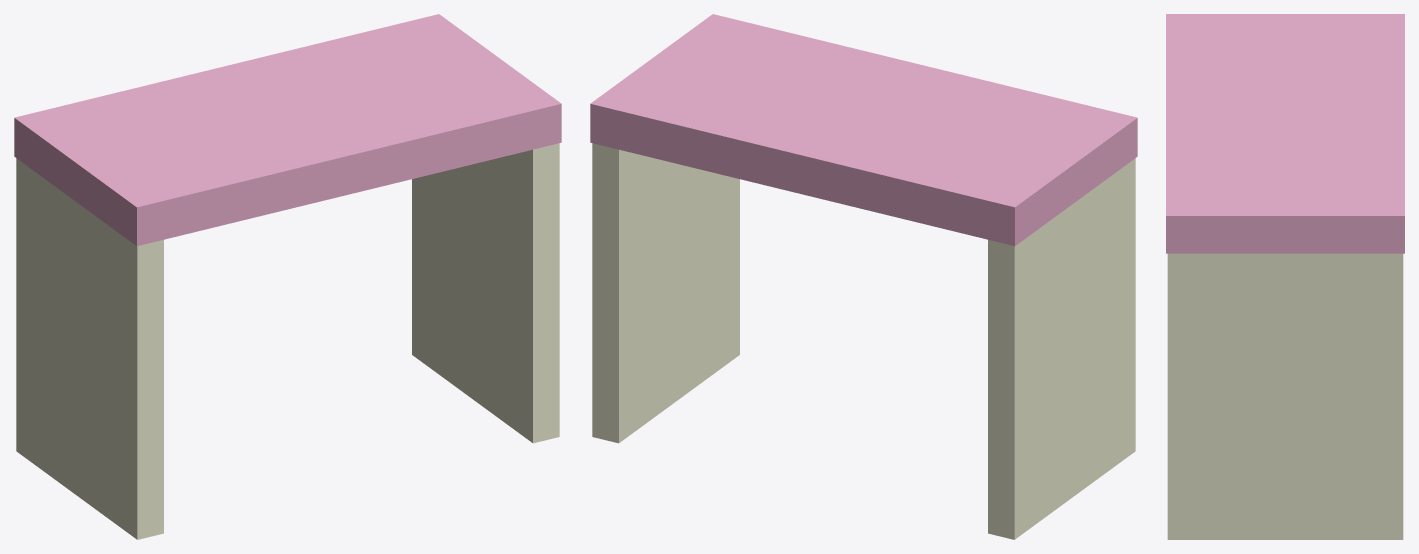
The model's file is desk2_pink.glb.
3 renders of one model, left to right at view 1: azimuth 30°, elevation 25°; view 2: azimuth 150°, elevation 25°; view 3: azimuth 270°, elevation 25°, orthographic. The views are drawn at different scales.
Visible parts, largest first — view 1: Box002; view 2: Box002; view 3: Box002.
Boxes of the visible parts, bbox=[...] form: Box002: bbox=[14, 14, 561, 539]; Box002: bbox=[590, 14, 1137, 539]; Box002: bbox=[1166, 14, 1404, 539].
Size of the model in its own units: 0.16 by 0.12 by 0.08.
Materials: 1 (1 with a texture image).
